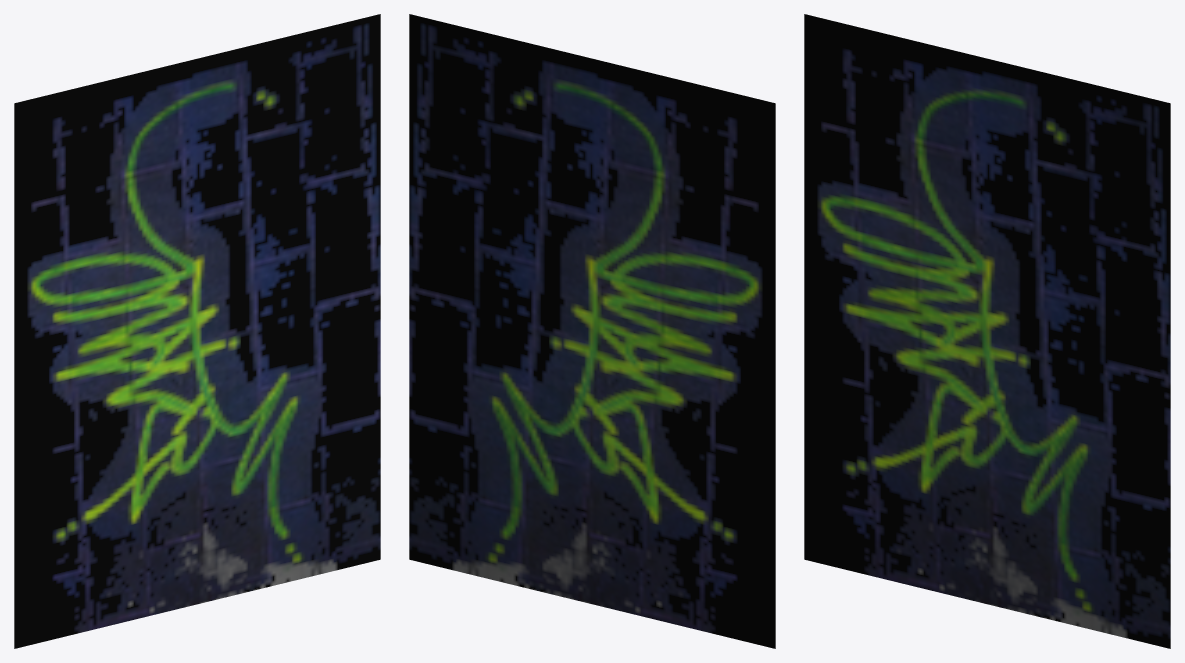
Rendered from lobby_graffiti_5.FBX.
The picture shows the model from 3 angles, left to right: view 1: azimuth 30°, elevation 25°; view 2: azimuth 150°, elevation 25°; view 3: azimuth 330°, elevation 25°; orthographic projection.
Parts seen in each view (by area): view 1: lobby_graffiti_5; view 2: lobby_graffiti_5; view 3: lobby_graffiti_5.
Part boxes in pixels (x1,y1,x2,y2): lobby_graffiti_5: [14, 14, 380, 648]; lobby_graffiti_5: [409, 14, 775, 648]; lobby_graffiti_5: [804, 14, 1170, 648].
Bounding box in the file's own units: 44.82 × 63.83 × 1.61e-05.
